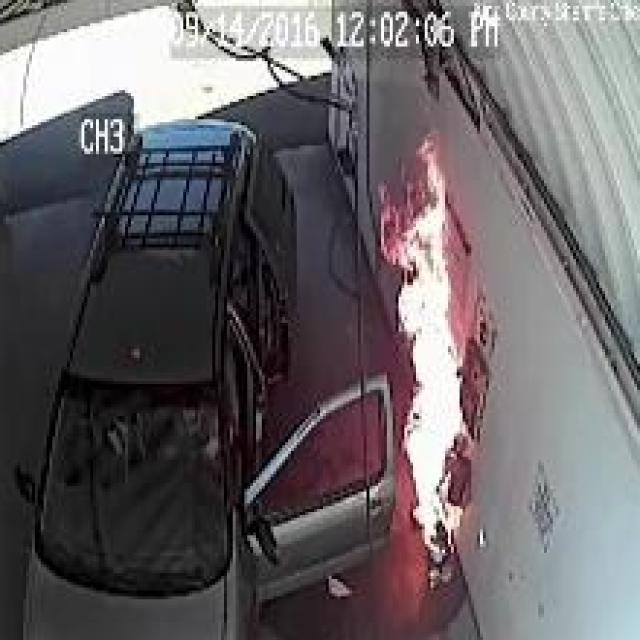smoke: (392, 122, 469, 559)
